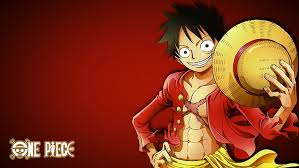luffy: (132, 2, 297, 168)
